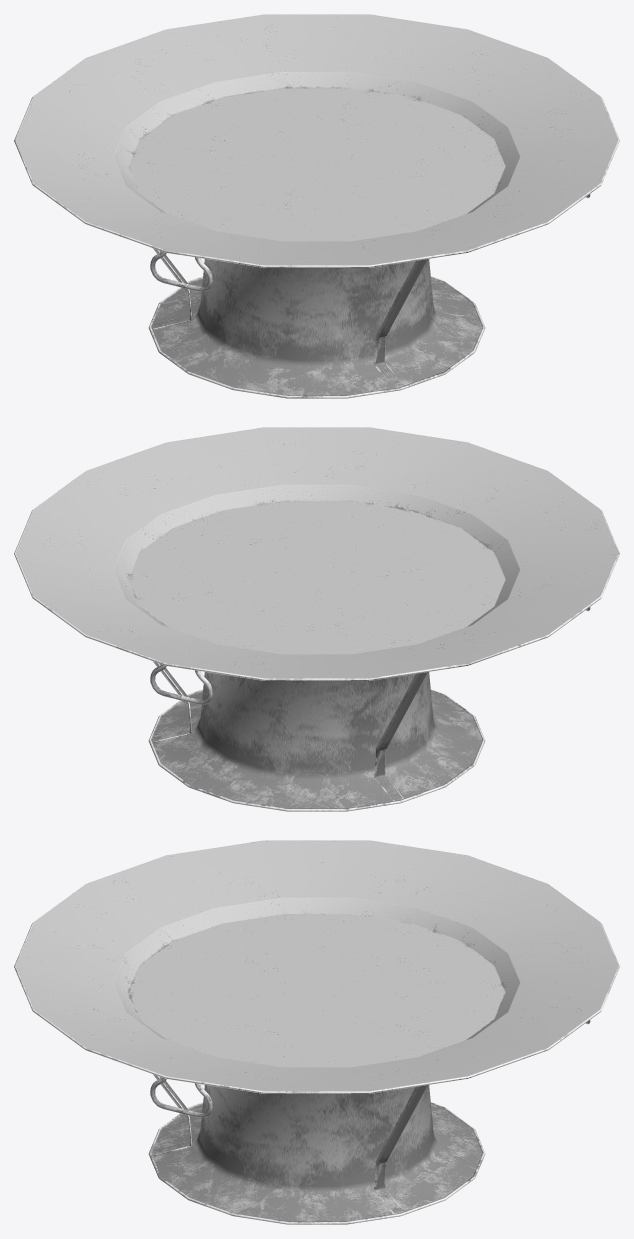
Rendered from sahn_muftih_low_poly.glb.
The picture shows the model from 3 angles, top to bottom: view 1: azimuth 30°, elevation 25°; view 2: azimuth 150°, elevation 25°; view 3: azimuth 270°, elevation 25°; orthographic projection.
Visible parts, largest first — view 1: Cylinder001; view 2: Cylinder001; view 3: Cylinder001.
Boxes of the visible parts, <box> form: Cylinder001: <box>14,14,619,398</box>; Cylinder001: <box>14,427,619,811</box>; Cylinder001: <box>14,840,619,1224</box>.
Size of the model in its own units: 36.34 by 12.72 by 36.9.
1 material, 1 textured.
